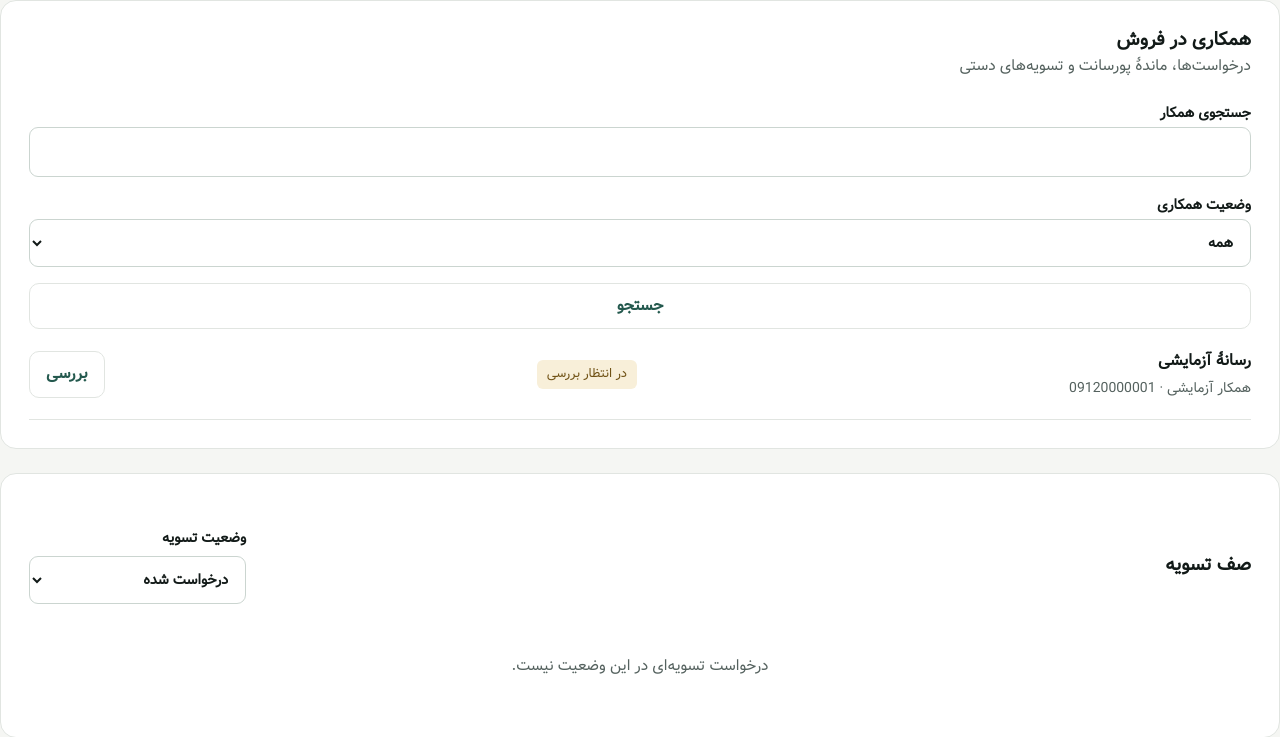
admin displays javascript:alert(1) as text, not a clickable URL
What coordinates should you click on to do the following:
click the button with aria-label "بررسی رسانهٔ آزمایشی"
I would click on:
 (67, 374)
Its box is top-left (29, 351), bottom-right (105, 398).
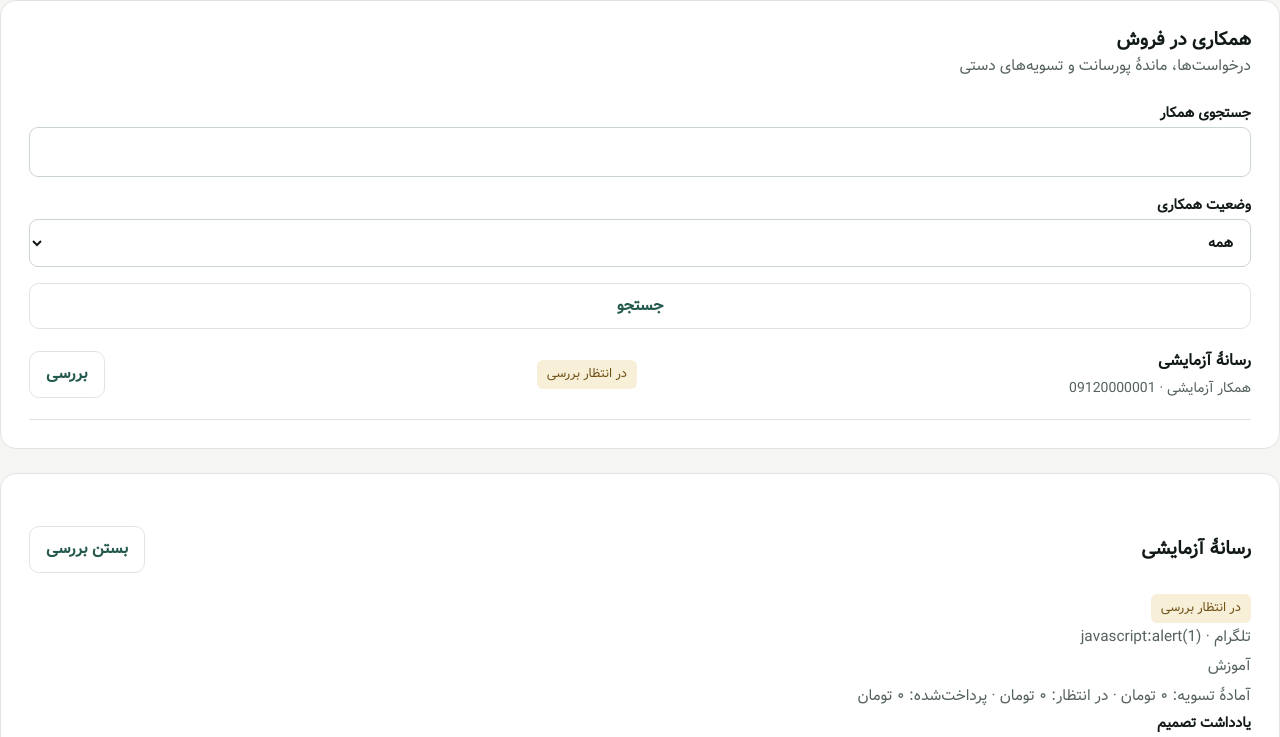
Expected: the text "javascript:alert(1)" is shown, top-left (1081, 625), bottom-right (1202, 649)
Expected: the text "تلگرام · javascript:alert(1)" is shown, top-left (1081, 625), bottom-right (1251, 649)
